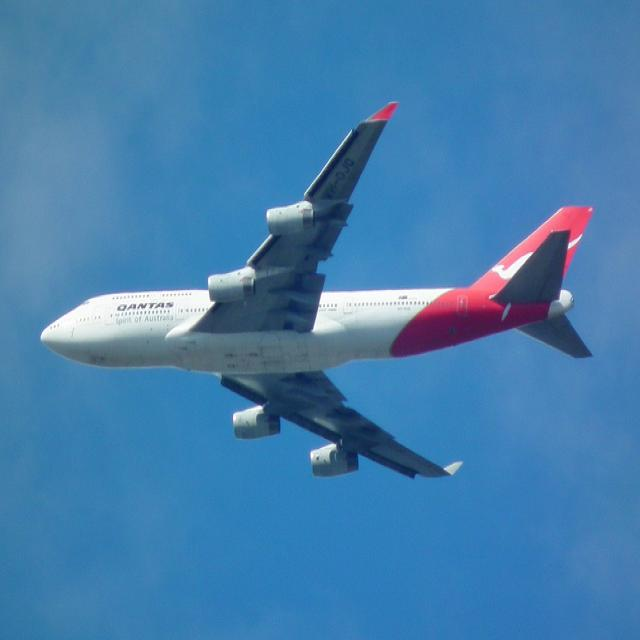airplane: (39, 100, 597, 481)
